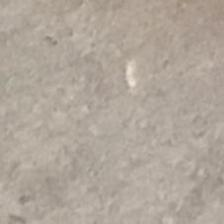Non_Crack: (10, 6, 224, 224)
